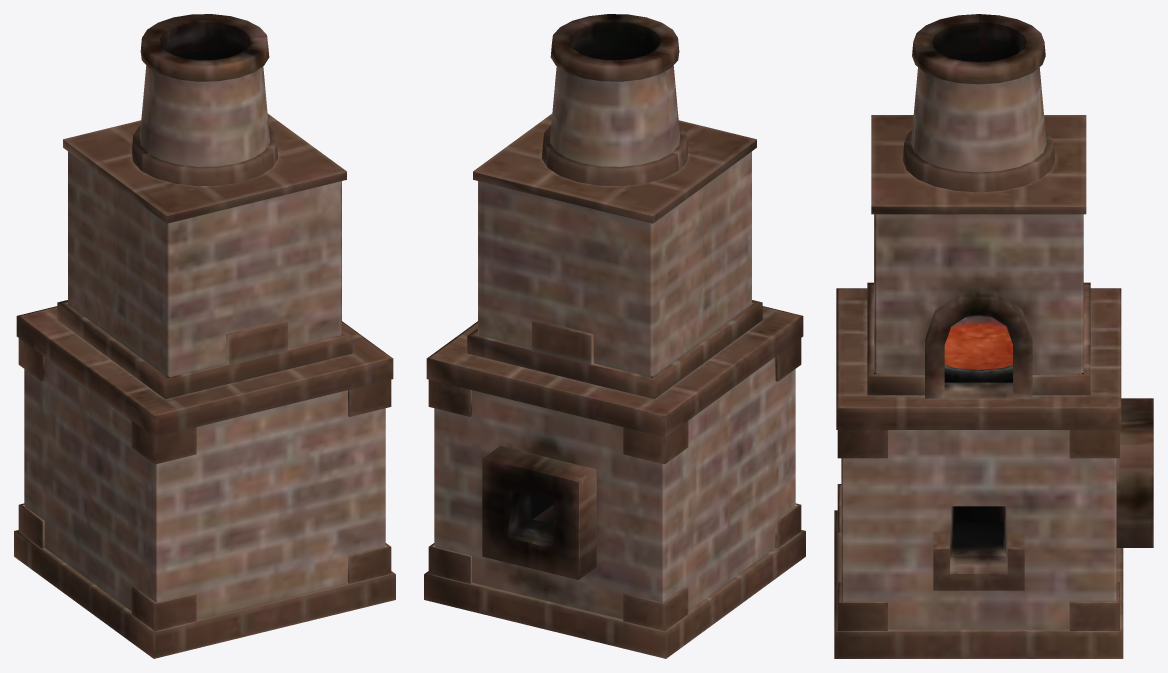
File: SM_BlastFurnaceMedieval_4d7af8.glb
3 renders of one model, left to right at view 1: azimuth 30°, elevation 25°; view 2: azimuth 150°, elevation 25°; view 3: azimuth 270°, elevation 25°, orthographic. The views are drawn at different scales.
Size of the model in its own units: 1.16 by 2.22 by 1.15.
1 material, 1 textured.
